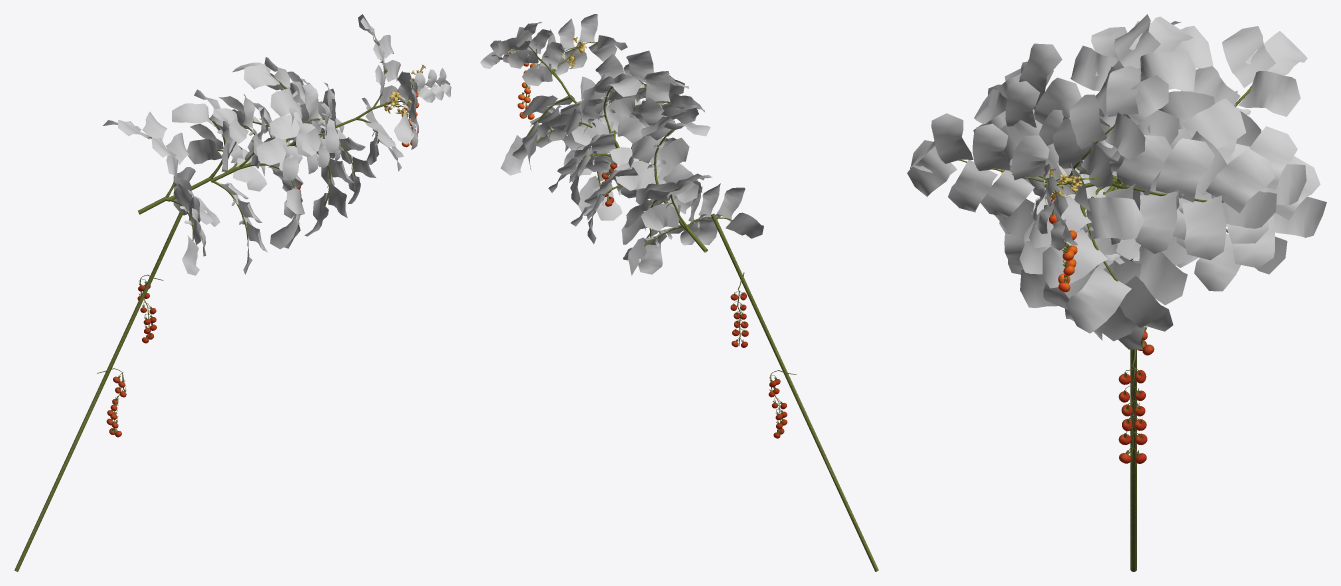
Rendered from tomato_vine_repo_v2.dae.
3 renders of one model, left to right at view 1: azimuth 30°, elevation 25°; view 2: azimuth 150°, elevation 25°; view 3: azimuth 270°, elevation 25°, orthographic. The views are drawn at different scales.
Visible parts, largest first — view 1: Leaf1, Branch1, Sphere.001; view 2: Leaf1, Branch1, Sphere.001; view 3: Leaf1, Branch1, Sphere.001, Sphere.037.
Part boxes in pixels (x1=…): Leaf1: x1=103, y1=14, x2=451, y2=275; Branch1: x1=14, y1=39, x2=437, y2=571; Sphere.001: x1=106, y1=186, x2=301, y2=437; Leaf1: x1=480, y1=14, x2=763, y2=275; Branch1: x1=501, y1=41, x2=878, y2=571; Sphere.001: x1=601, y1=147, x2=787, y2=438; Leaf1: x1=907, y1=14, x2=1326, y2=349; Branch1: x1=957, y1=74, x2=1251, y2=571; Sphere.001: x1=1118, y1=258, x2=1154, y2=463; Sphere.037: x1=1049, y1=192, x2=1077, y2=292.
Size of the model in its own units: 2.03 by 1.05 by 2.17.
